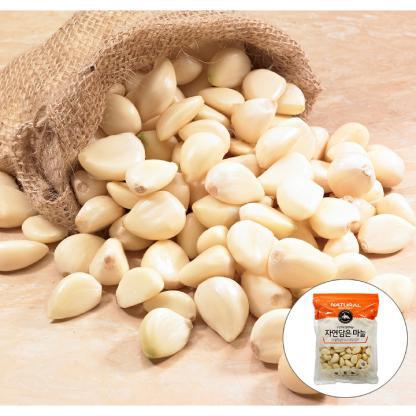garlic: (138, 300, 210, 360), (258, 152, 322, 219), (260, 235, 342, 284), (201, 153, 261, 206), (122, 196, 188, 244), (125, 62, 177, 113), (48, 271, 102, 319), (226, 220, 282, 266), (114, 266, 171, 310), (82, 136, 138, 177), (356, 213, 412, 253), (261, 128, 325, 162), (313, 190, 358, 237), (59, 233, 107, 277), (233, 101, 279, 146), (182, 124, 225, 172), (96, 100, 146, 140), (90, 238, 130, 288), (201, 276, 235, 334), (178, 253, 240, 283), (157, 91, 199, 135), (0, 182, 38, 230), (244, 275, 290, 314), (244, 66, 284, 110), (333, 156, 373, 200), (0, 237, 48, 271), (122, 157, 174, 187), (208, 53, 255, 86), (205, 86, 243, 109)
